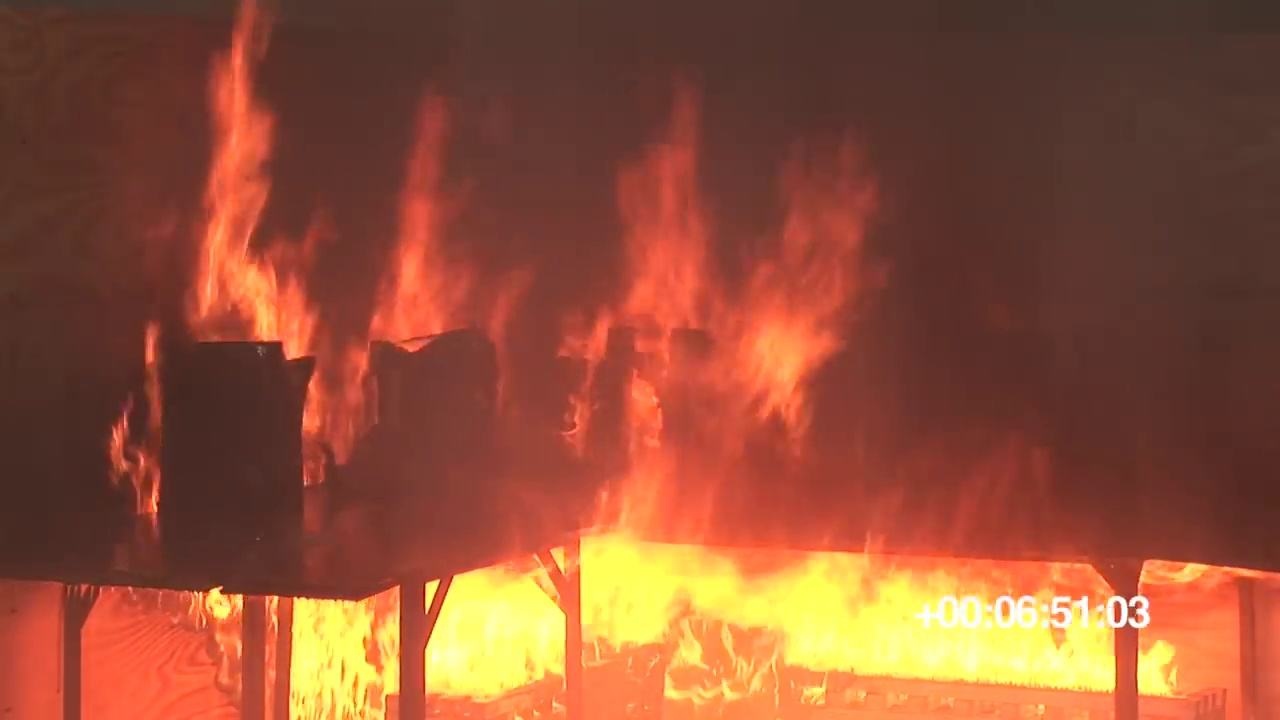fire: (288, 547, 1179, 691), (615, 100, 880, 382), (185, 5, 314, 348), (373, 95, 459, 344), (621, 376, 664, 448), (109, 422, 132, 473), (210, 588, 226, 616)
